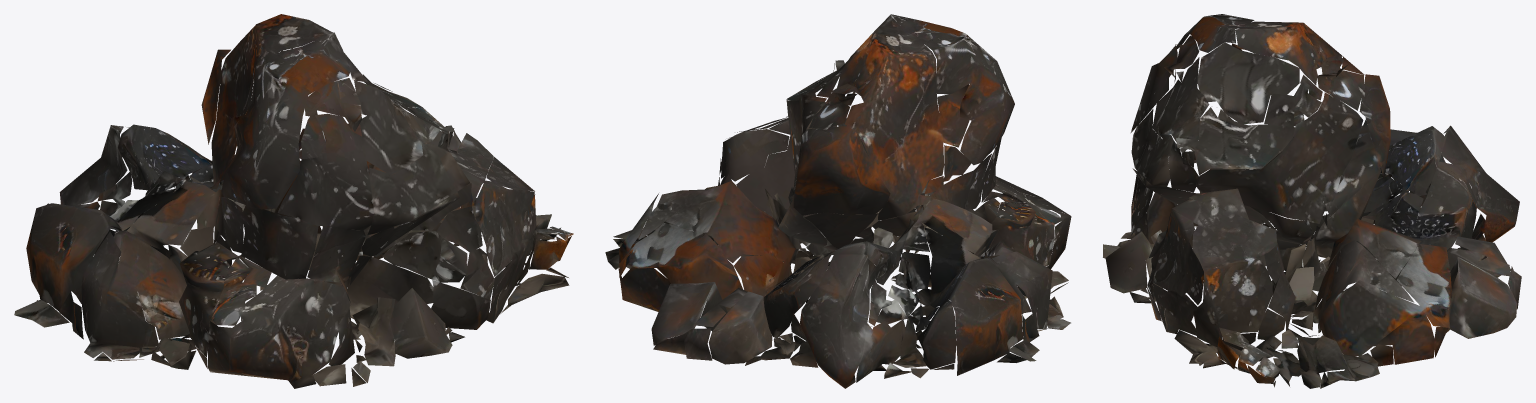
The model's file is mesh_resource_node_scrap.glb.
3 renders of one model, left to right at view 1: azimuth 30°, elevation 25°; view 2: azimuth 150°, elevation 25°; view 3: azimuth 270°, elevation 25°, orthographic. The views are drawn at different scales.
Parts seen in each view (by area): view 1: tripo_node_a7109fcf-ef52-482b-9e9c-71e17b371893; view 2: tripo_node_a7109fcf-ef52-482b-9e9c-71e17b371893; view 3: tripo_node_a7109fcf-ef52-482b-9e9c-71e17b371893.
Part boxes in pixels (x1=…): tripo_node_a7109fcf-ef52-482b-9e9c-71e17b371893: x1=14, y1=14, x2=573, y2=388; tripo_node_a7109fcf-ef52-482b-9e9c-71e17b371893: x1=605, y1=14, x2=1071, y2=388; tripo_node_a7109fcf-ef52-482b-9e9c-71e17b371893: x1=1103, y1=14, x2=1521, y2=388.
Size of the model in its own units: 0.9918 by 0.5536 by 0.8164.
Materials: 1 (1 with a texture image).
